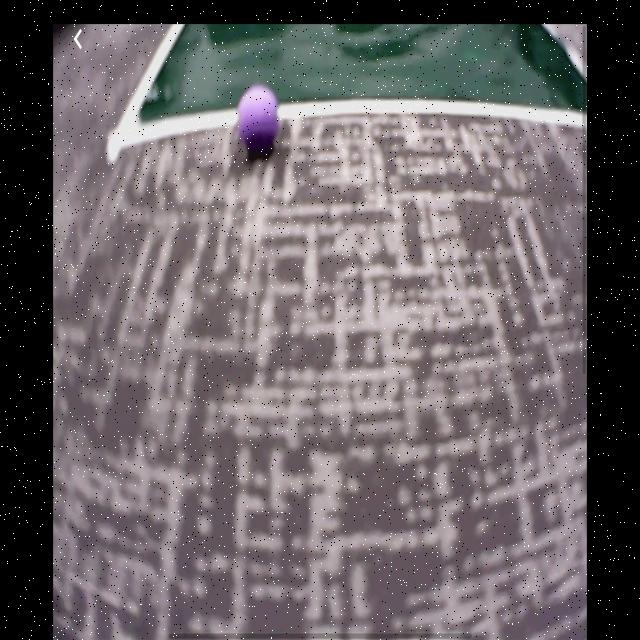ball: (238, 84, 281, 162)
